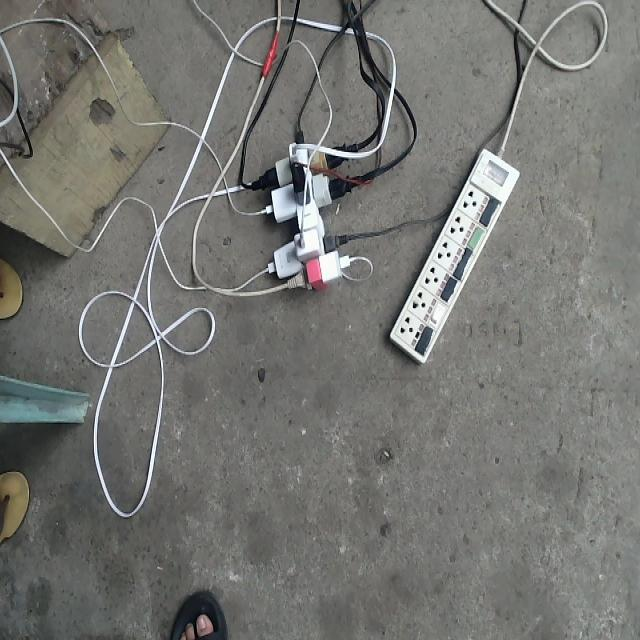-: (244, 128, 355, 289)
